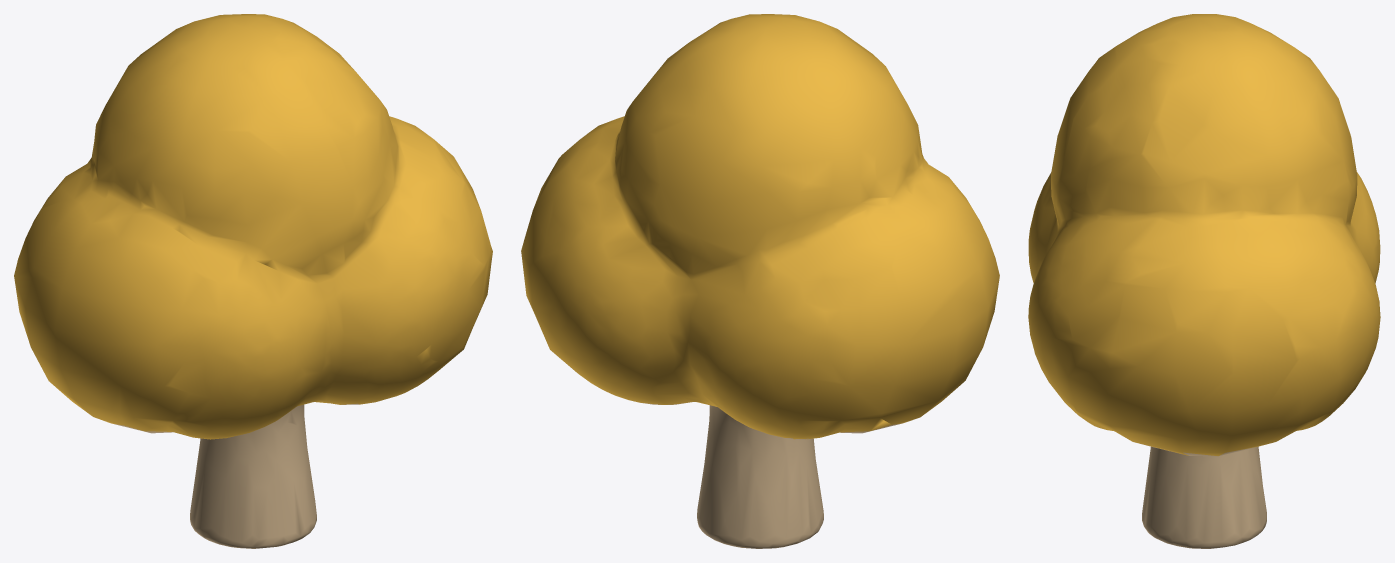
File: golden_tree.glb
The picture shows the model from 3 angles, left to right: view 1: azimuth 30°, elevation 25°; view 2: azimuth 150°, elevation 25°; view 3: azimuth 270°, elevation 25°; orthographic projection.
Visible parts, largest first — view 1: GoldenTree; view 2: GoldenTree; view 3: GoldenTree.
Part boxes in pixels (x1,y1,x2,y2): GoldenTree: (14, 14, 492, 548); GoldenTree: (521, 14, 999, 548); GoldenTree: (1028, 14, 1380, 548).
Bounding box in the file's own units: 2.15 × 2.4 × 1.56.
